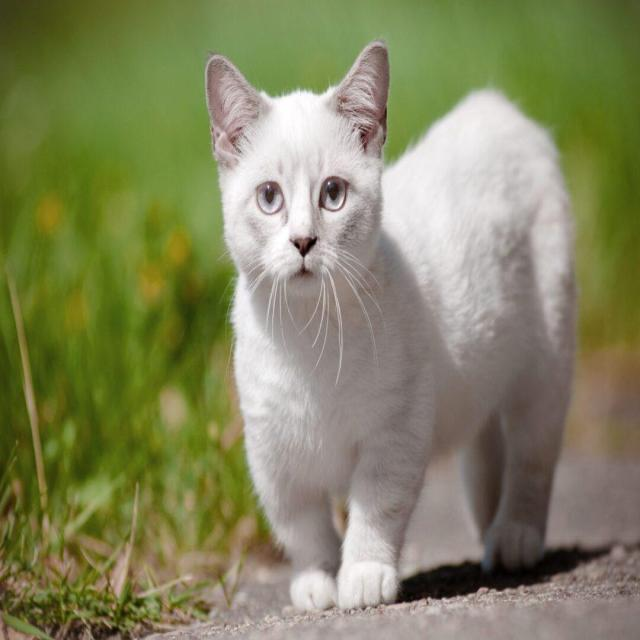Cat: (191, 31, 413, 324)
